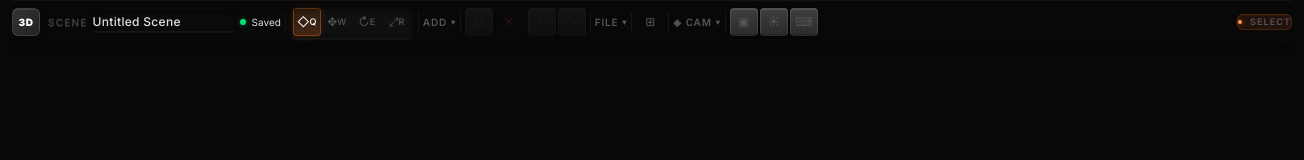
Scenario: Toolbar › File dropdown › shows file items when opened
Click the button with aria-label "File operations" at (611, 22), box x1=595 y1=8 x2=627 y2=36
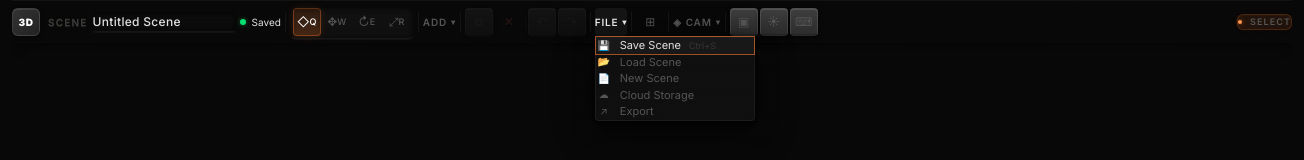
Now the menu item "💾 Save Scene Ctrl+S" is shown, box x1=596 y1=37 x2=754 y2=54
Now the menu item "📂 Load Scene" is shown, box x1=596 y1=54 x2=754 y2=70
Now the menu item "📄 New Scene" is shown, box x1=596 y1=70 x2=754 y2=86
